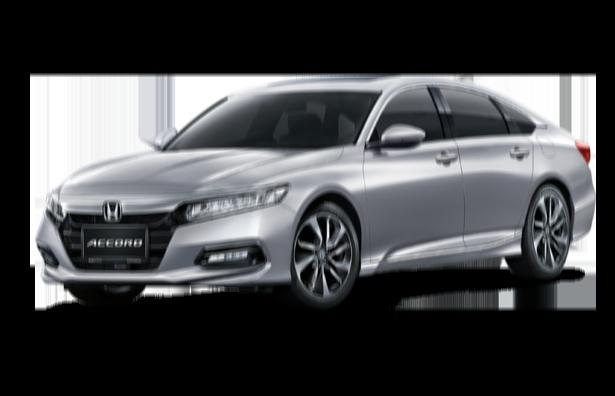Car hood: (52, 145, 349, 213)
Fender - -F-L-: (261, 139, 372, 277)
Fender - -R-L-: (519, 135, 582, 251)
Front bumper: (33, 211, 310, 300)
Headlight - -L-: (178, 179, 294, 226)
Headlight - -R-: (38, 183, 73, 223)
Passenger-s door - -F-L-: (373, 80, 465, 263)
Passenger-s door - -R-L-: (465, 88, 541, 257)
Rear bumper: (561, 183, 600, 247)
Rear light - -L-: (575, 136, 597, 166)
Side bumper - -L-: (352, 233, 533, 281)
Side mirror - -L-: (367, 120, 427, 159)
Side mirror - -R-: (148, 121, 187, 155)
